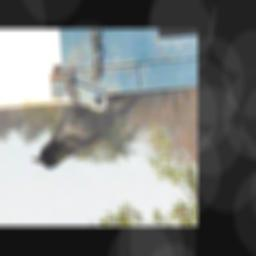Crow: (30, 96, 137, 170)
